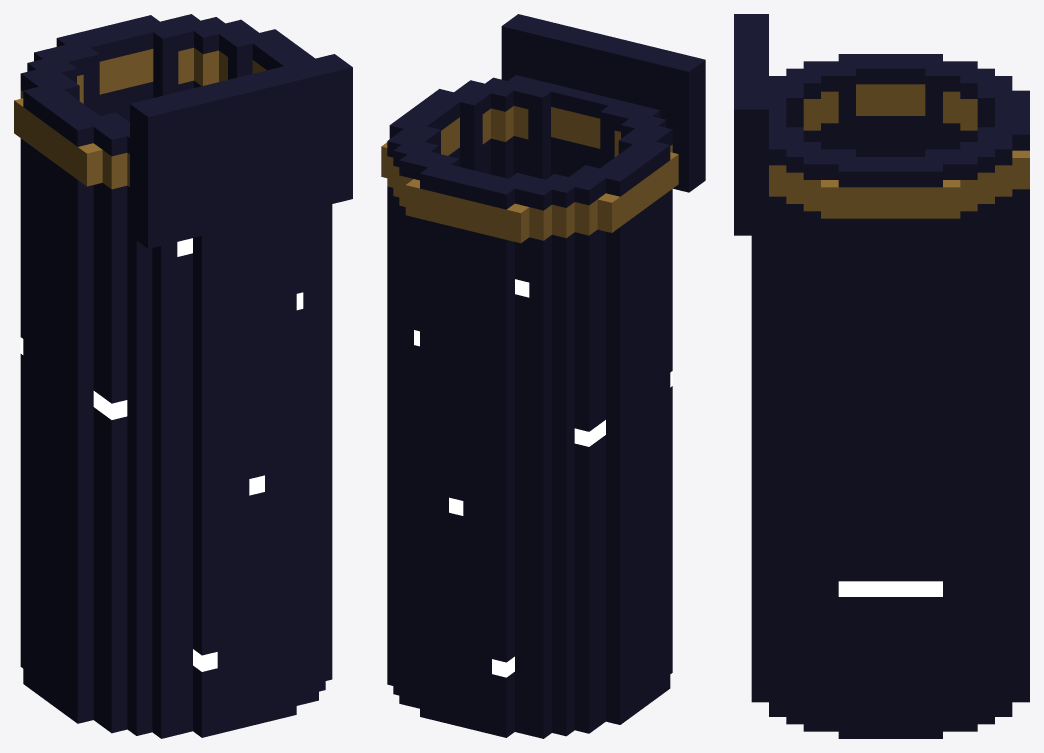
The model's file is mystic_rare_leg_L.glb.
3 renders of one model, left to right at view 1: azimuth 30°, elevation 25°; view 2: azimuth 150°, elevation 25°; view 3: azimuth 270°, elevation 25°, orthographic. The views are drawn at different scales.
Parts seen in each view (by area): view 1: mystic_rare_leg_L; view 2: mystic_rare_leg_L; view 3: mystic_rare_leg_L.
Boxes of the visible parts, x1,y1,x2,y2 form: mystic_rare_leg_L: [14, 14, 352, 738]; mystic_rare_leg_L: [381, 14, 705, 738]; mystic_rare_leg_L: [734, 14, 1029, 738].
Size of the model in its own units: 0.192 by 0.468 by 0.204.
